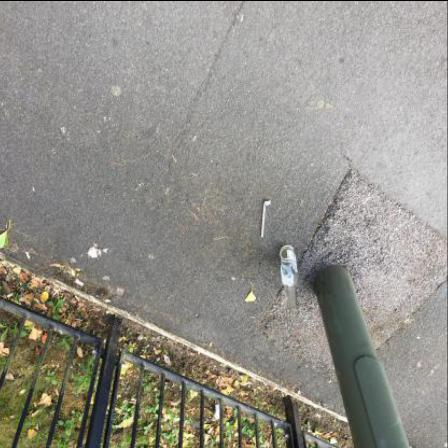Bottle: (280, 245, 299, 315)
Straw: (263, 201, 273, 237)
Unlabeled litter: (216, 404, 221, 420)
